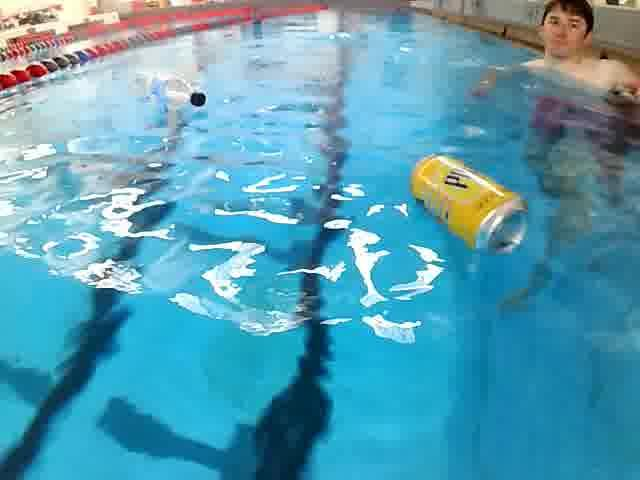Bottle: (124, 69, 215, 113)
Can: (402, 140, 534, 264)
